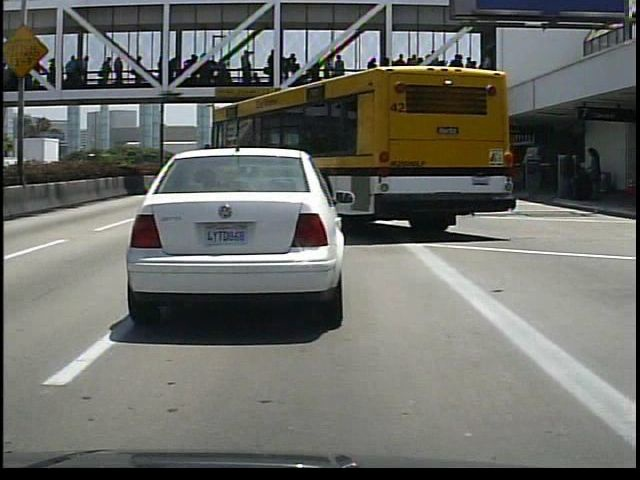person: (583, 145, 611, 207), (558, 143, 585, 204)
